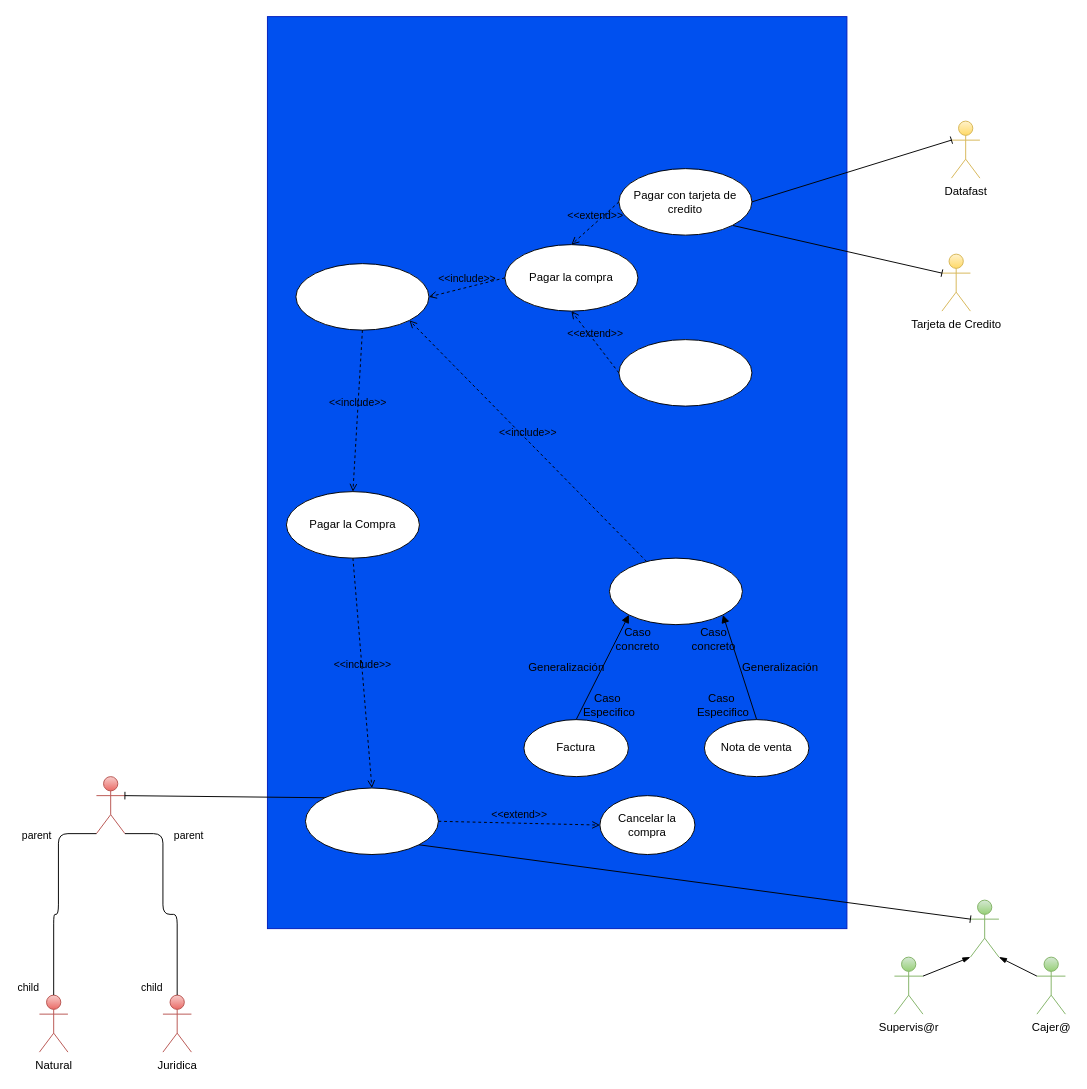
Image size: 1087x1089. Some labels were removed from this diagram. Each missing label, with the centre of its shape:
"Cliente" belongs at [110,805].
"Comprar productos" belongs at [371,821].
"Comprobante" belongs at [675,591].
"Empresa" belongs at [984,928].
"Facturar la compra" belongs at [362,296].
"Pagar en efectivo" belongs at [685,372].
